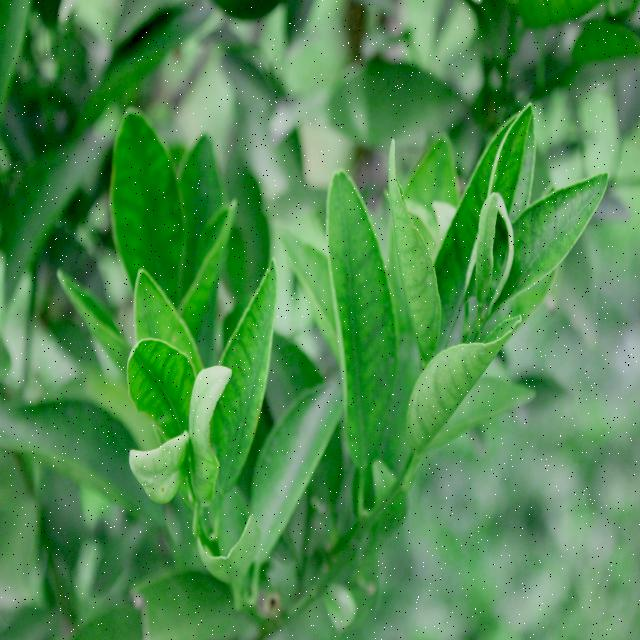greening: (326, 171, 392, 460), (212, 252, 284, 467), (110, 119, 181, 309), (508, 176, 603, 302), (126, 334, 189, 423)
